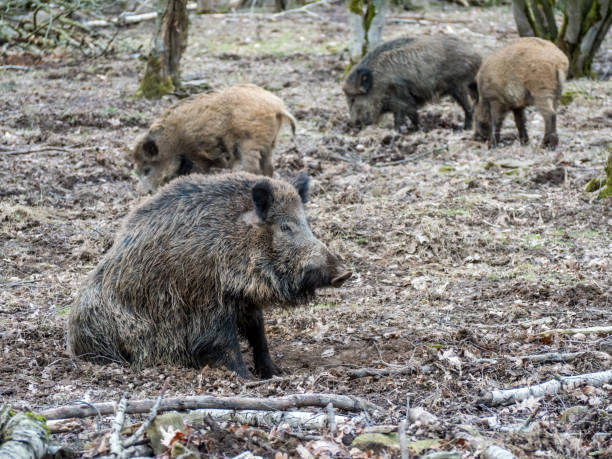pig: (59, 172, 357, 380), (333, 27, 479, 133), (99, 112, 311, 171), (134, 287, 135, 290)
